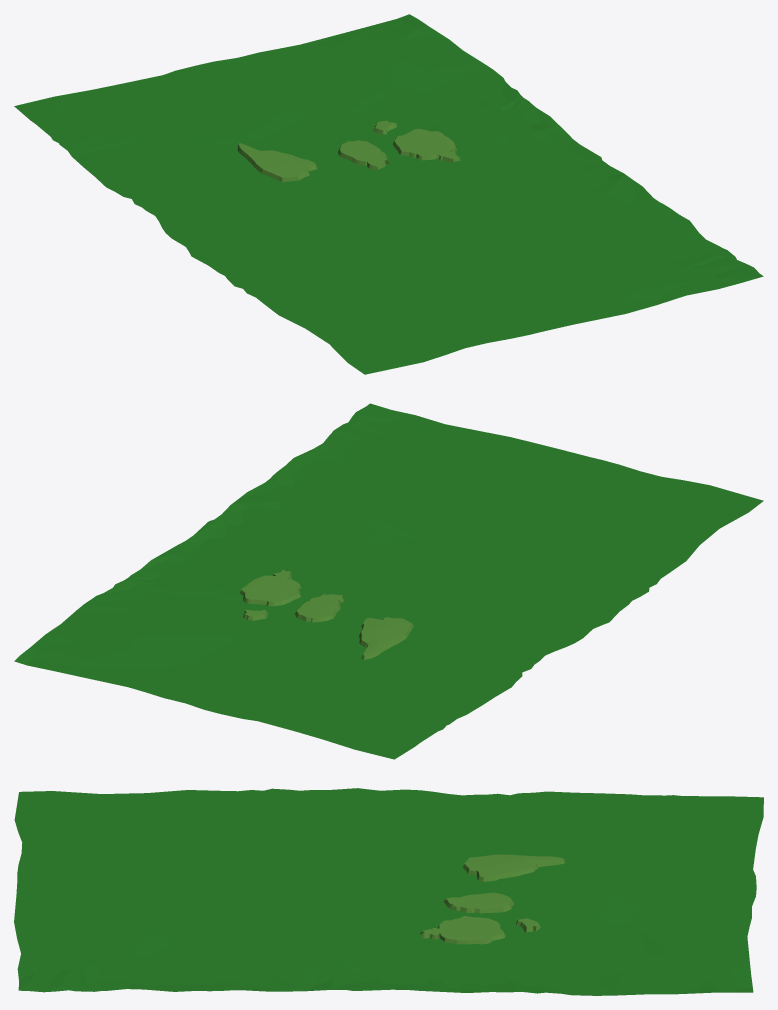
The model's file is grass_layer_block_G.fbx.
The picture shows the model from 3 angles, top to bottom: view 1: azimuth 30°, elevation 25°; view 2: azimuth 150°, elevation 25°; view 3: azimuth 270°, elevation 25°; orthographic projection. The views are drawn at different scales.
Visible parts, largest first — view 1: placeholder_ground_grass_layer_block_G, grass_layer_block_G_A, grass_layer_block_G_B, grass_layer_block_G_C; view 2: placeholder_ground_grass_layer_block_G, grass_layer_block_G_B, grass_layer_block_G_A, grass_layer_block_G_C; view 3: placeholder_ground_grass_layer_block_G, grass_layer_block_G_A, grass_layer_block_G_B, grass_layer_block_G_C.
Part boxes in pixels (bbox=[...]): placeholder_ground_grass_layer_block_G: bbox=[14, 14, 763, 374]; grass_layer_block_G_A: bbox=[237, 143, 316, 181]; grass_layer_block_G_B: bbox=[393, 128, 460, 163]; grass_layer_block_G_C: bbox=[338, 140, 388, 170]; placeholder_ground_grass_layer_block_G: bbox=[14, 403, 763, 759]; grass_layer_block_G_B: bbox=[240, 569, 301, 606]; grass_layer_block_G_A: bbox=[359, 617, 413, 659]; grass_layer_block_G_C: bbox=[295, 593, 344, 622]; placeholder_ground_grass_layer_block_G: bbox=[14, 788, 763, 995]; grass_layer_block_G_A: bbox=[462, 854, 565, 881]; grass_layer_block_G_B: bbox=[419, 916, 505, 944]; grass_layer_block_G_C: bbox=[443, 892, 513, 913].
Size of the model in its own units: 3971 by 66.8 by 6024.
